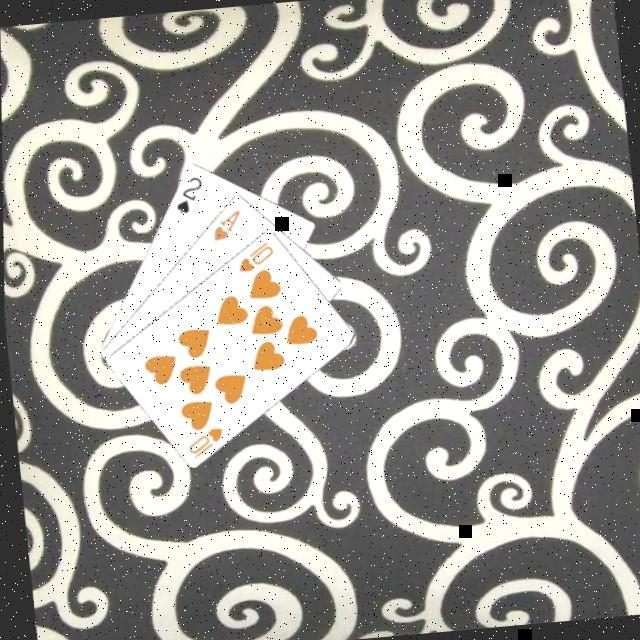10H: (230, 238, 275, 277), (179, 425, 224, 464)
2S: (167, 174, 206, 219)
AH: (204, 207, 243, 246)
